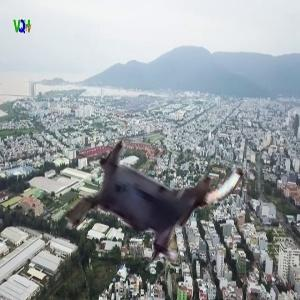drone: (60, 109, 239, 288)
